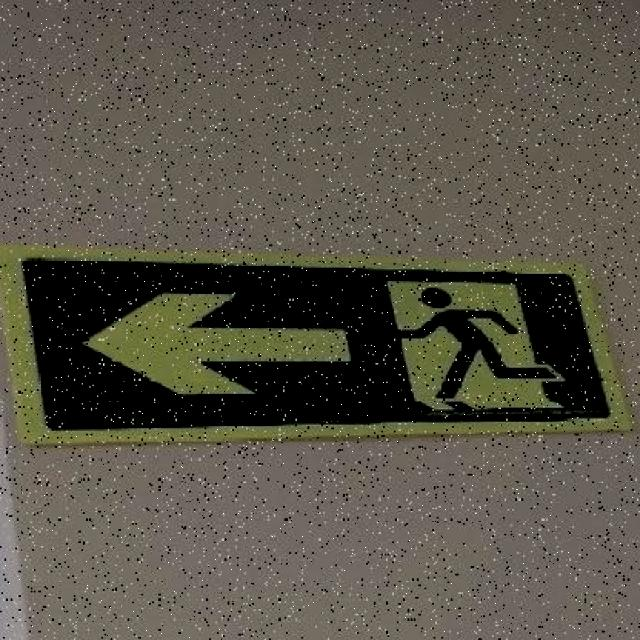emergency_exit: (3, 247, 627, 447)
